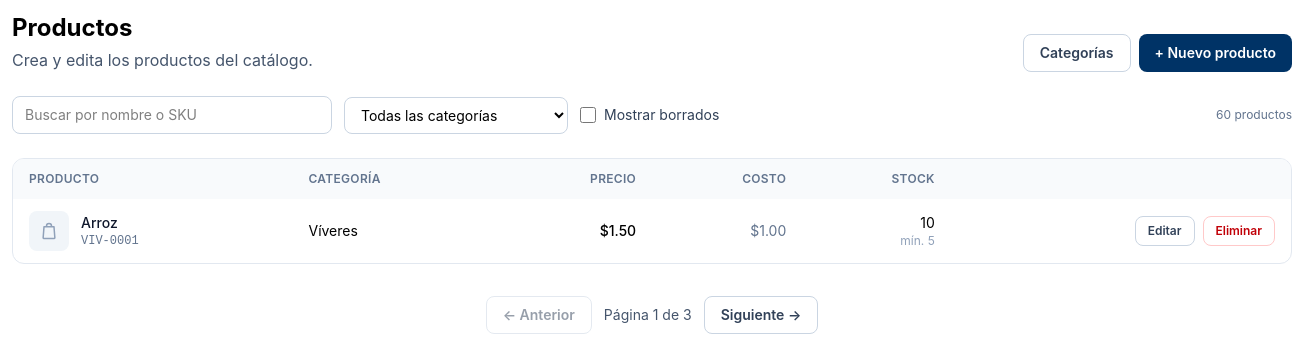
Productos: listado y filtros › pagina los resultados cuando hay más de 25 productos
The width and height of the screenshot is (1304, 351).
Click the button "Siguiente →" at {"x": 761, "y": 315}, box [704, 296, 818, 334]
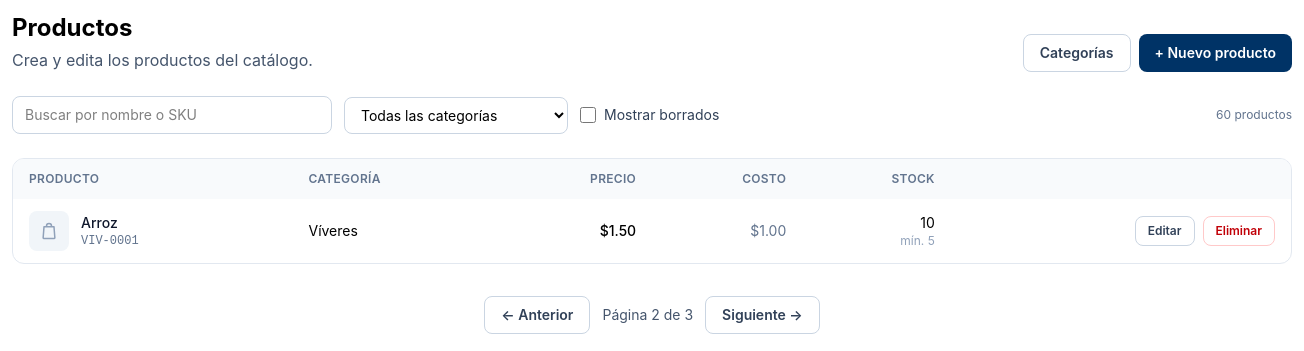
Expected: the text "Página 2 de 3" is shown, [602, 305, 693, 325]
